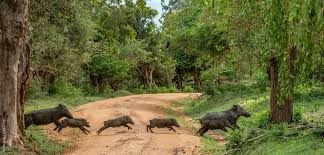boar: (196, 103, 252, 137), (21, 104, 75, 132), (96, 113, 136, 136), (146, 116, 181, 135), (56, 117, 93, 132)
